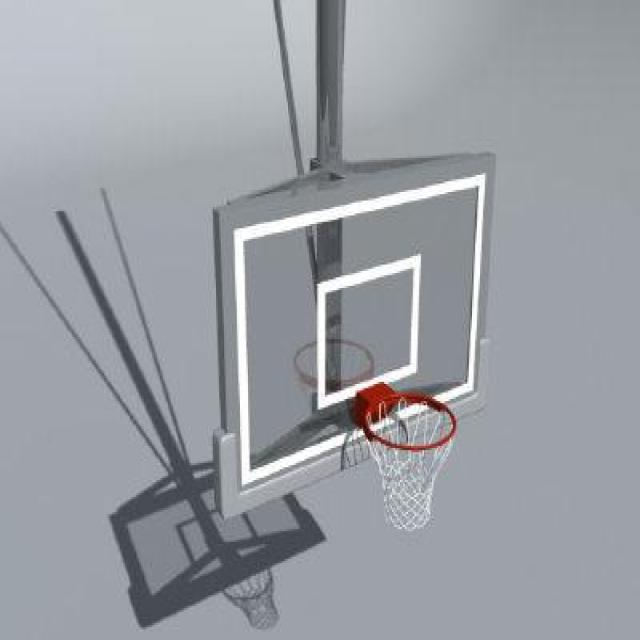hoop: (361, 387, 476, 544)
